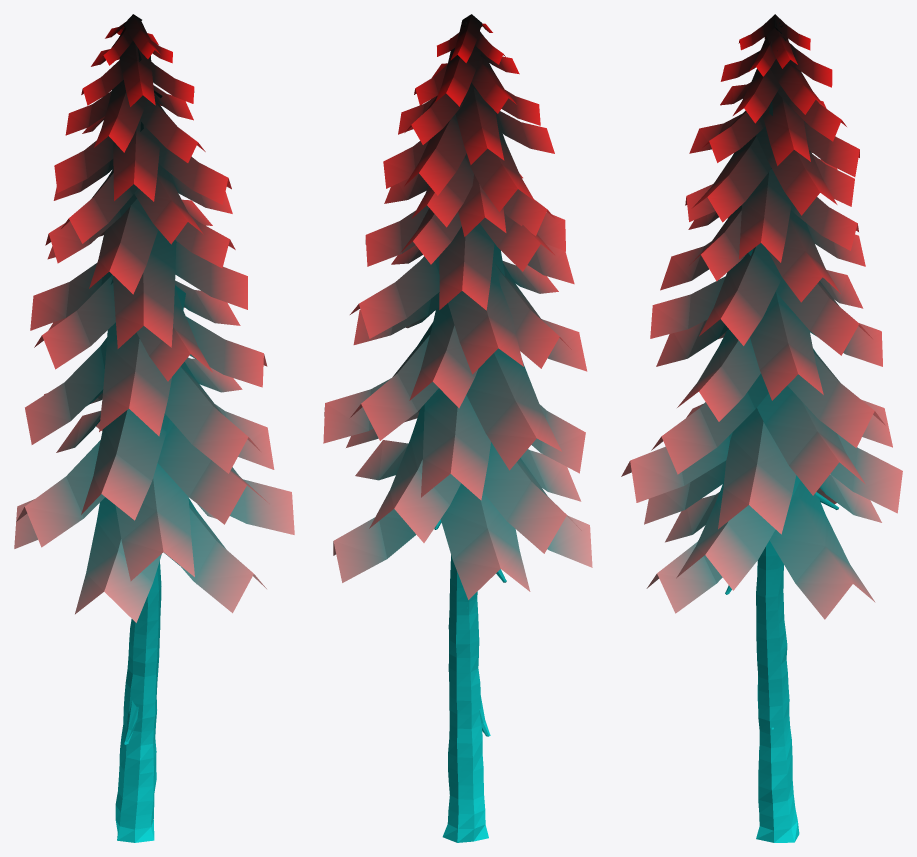
File: PineTree04.fbx
3 renders of one model, left to right at view 1: azimuth 30°, elevation 25°; view 2: azimuth 150°, elevation 25°; view 3: azimuth 270°, elevation 25°, orthographic.
Visible parts, largest first — view 1: Leaves, Trunk; view 2: Leaves, Trunk; view 3: Leaves, Trunk.
Boxes of the visible parts, x1,y1,x2,y2 form: Leaves: [14, 14, 294, 622]; Trunk: [115, 553, 179, 842]; Leaves: [323, 14, 592, 599]; Trunk: [434, 22, 506, 842]; Leaves: [621, 14, 902, 619]; Trunk: [725, 22, 838, 842].
Bounding box in the file's own units: 397 × 1299 × 405.
